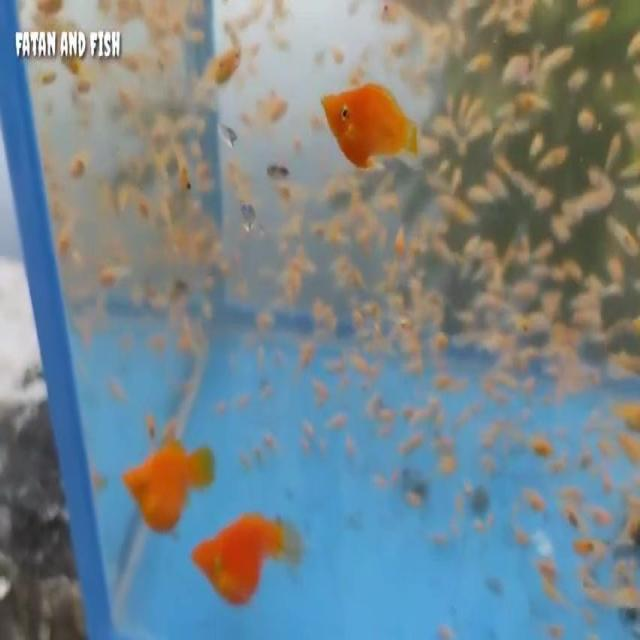PlatyFish: (184, 501, 309, 614), (316, 66, 424, 175), (115, 432, 218, 537)
